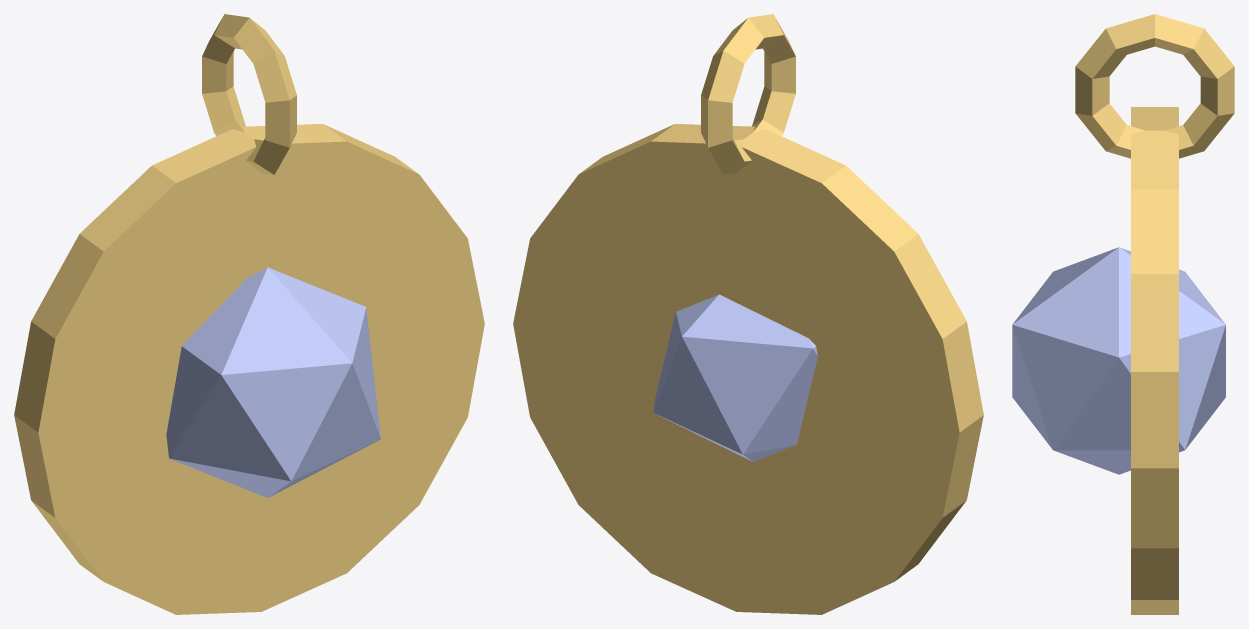
Rendered from amulet.fbx.
The picture shows the model from 3 angles, left to right: view 1: azimuth 30°, elevation 25°; view 2: azimuth 150°, elevation 25°; view 3: azimuth 270°, elevation 25°; orthographic projection.
Parts seen in each view (by area): view 1: amulet.Gold, amulet.Main; view 2: amulet.Gold, amulet.Main; view 3: amulet.Gold, amulet.Main.
Boxes of the visible parts, box(x1,y1,x2,y2) form: amulet.Gold: box(14, 14, 484, 614); amulet.Main: box(166, 267, 380, 497); amulet.Gold: box(513, 14, 983, 614); amulet.Main: box(653, 294, 817, 461); amulet.Gold: box(1075, 14, 1234, 614); amulet.Main: box(1012, 247, 1225, 474).
Size of the model in its own units: 1.7 by 2.13 by 0.7436.
